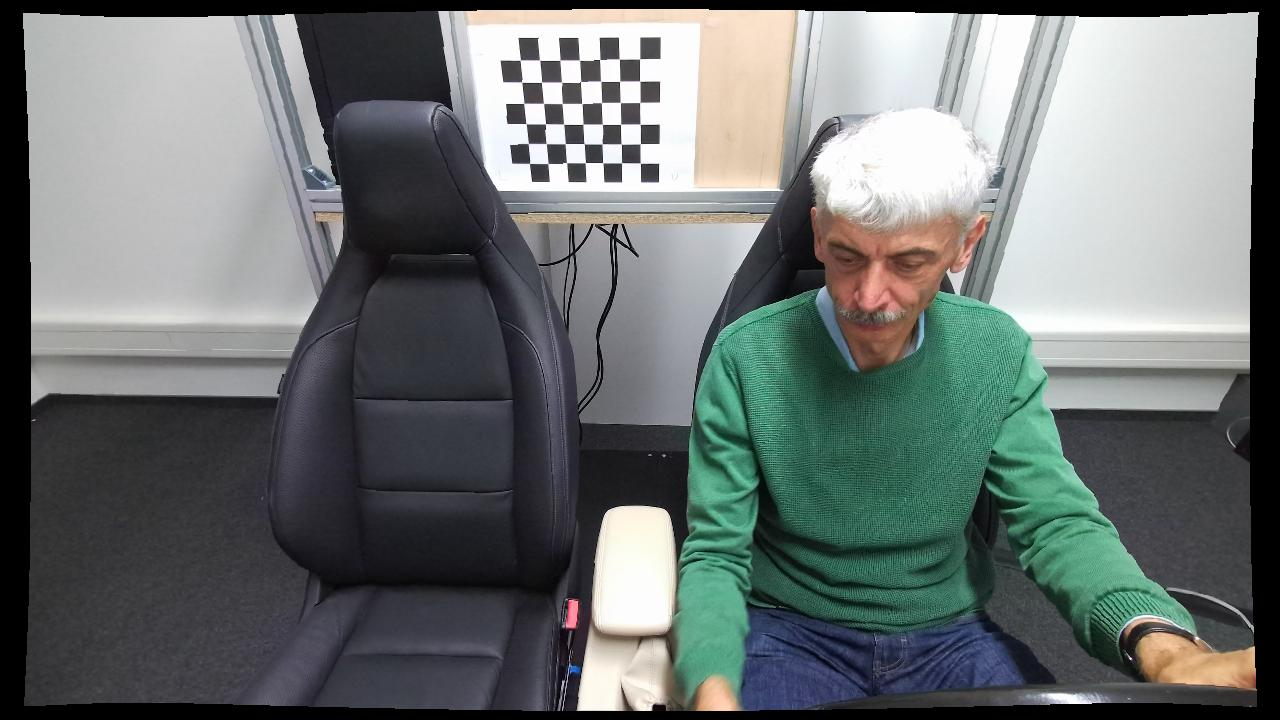Distracted: (670, 102, 1081, 714)
